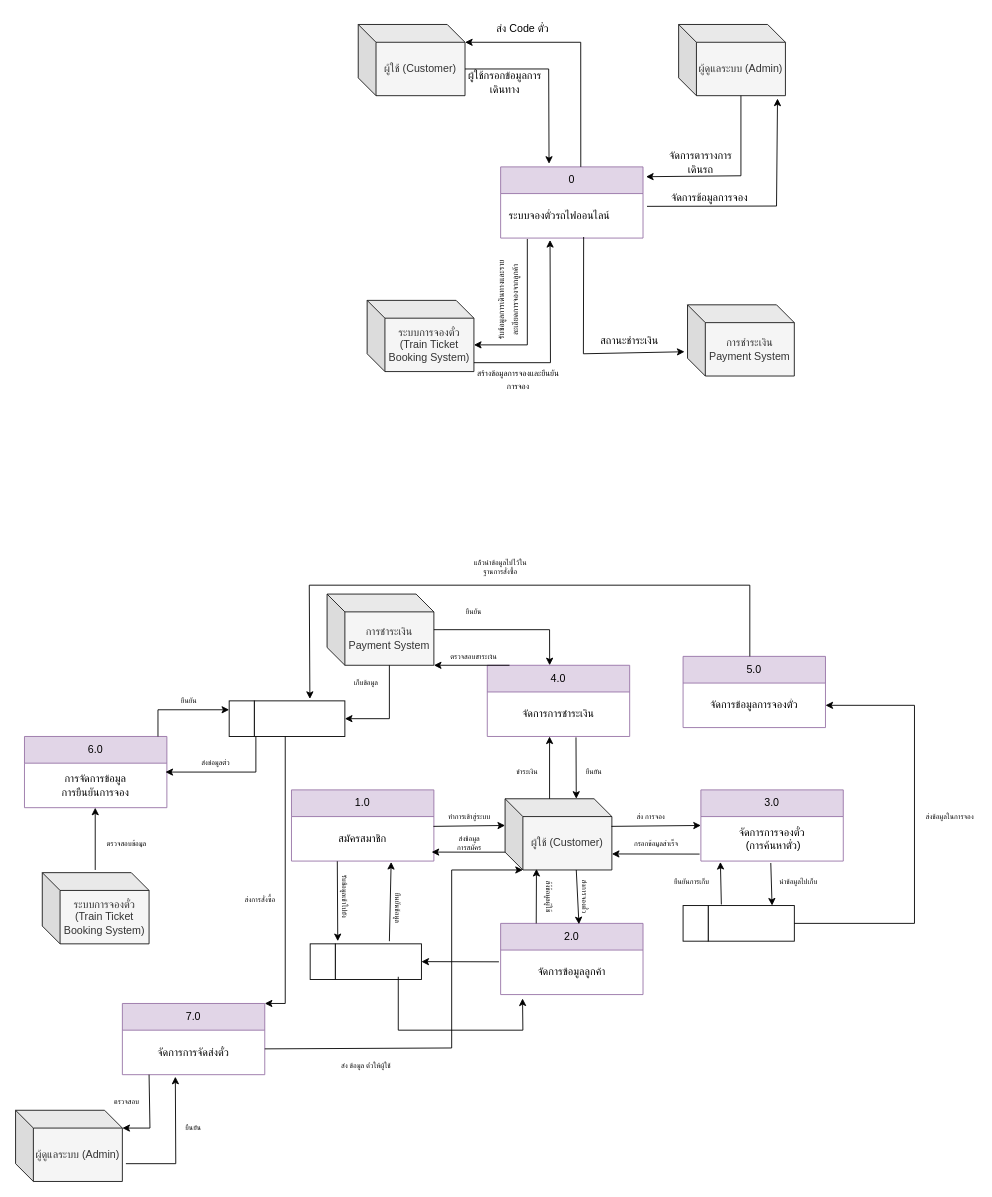
Image size: 992x1197. Some labels were removed from this diagram. The shapes that lost their labels are listed below. From the top down, each one's centre as x and y in pixels, then its label:
the point at 241,718: D2
the point at 299,718: ฐานข้อมูลการสั่งซฺื้อ
the point at 695,923: D3
the point at 750,923: ฐานข้อมูล
the point at 322,961: D1
the point at 377,961: ฐานข้อมูลลูกค้า
